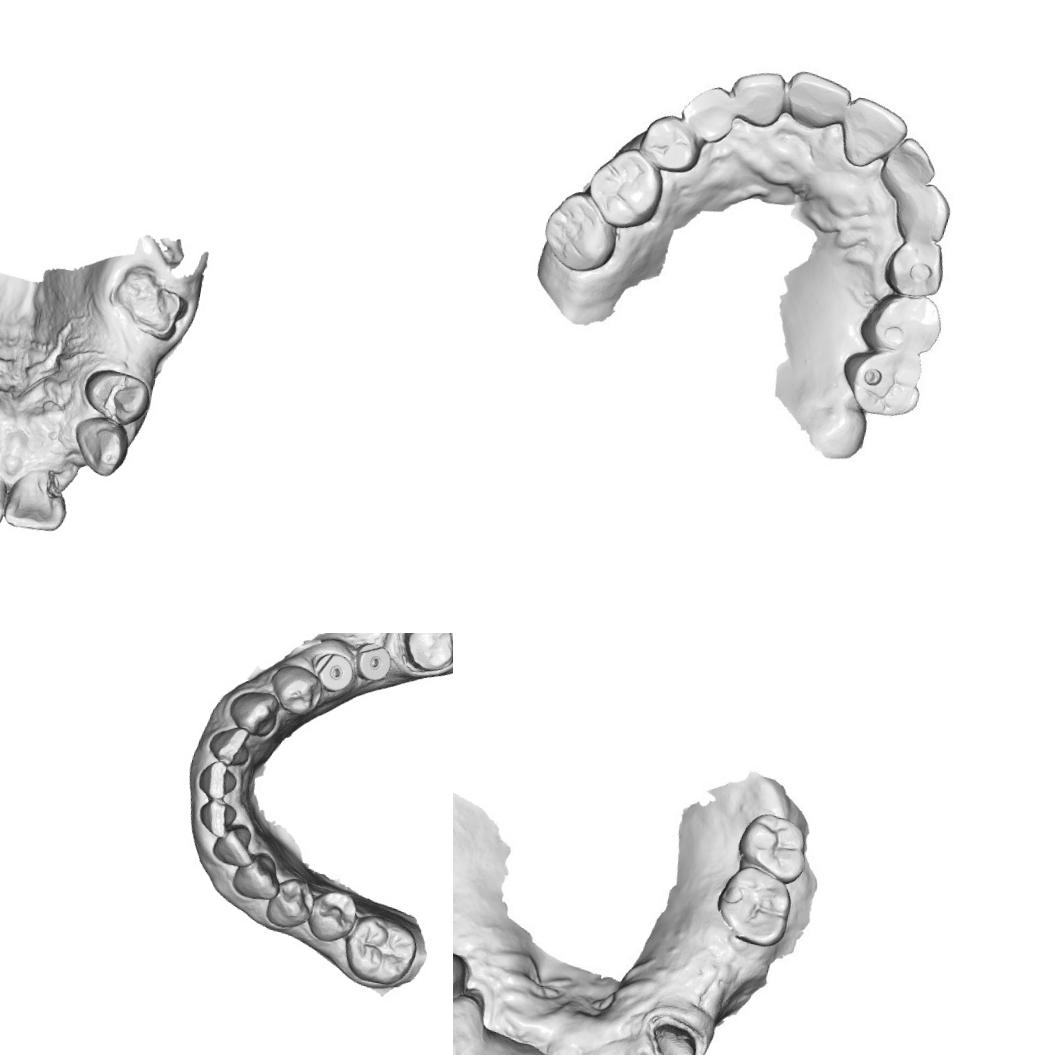canine: (890, 176, 955, 247), (676, 79, 742, 148), (67, 413, 132, 480), (228, 846, 286, 904), (224, 686, 282, 740), (453, 993, 483, 1055)
crown: (392, 633, 453, 680), (647, 1018, 704, 1055)
implant: (310, 648, 357, 695), (350, 638, 396, 686)
incisor: (834, 93, 912, 175), (0, 462, 72, 535), (779, 67, 856, 135), (876, 132, 941, 200), (725, 63, 788, 129), (210, 819, 260, 870), (204, 720, 256, 768), (194, 758, 241, 804), (195, 796, 238, 840), (453, 1039, 503, 1055)
molar: (534, 184, 624, 278), (580, 141, 669, 235), (708, 860, 797, 951), (854, 286, 948, 365), (837, 342, 928, 423), (338, 910, 423, 990), (732, 808, 813, 888)
premolar: (78, 364, 156, 431), (878, 235, 949, 306), (634, 109, 704, 176), (262, 872, 322, 934), (264, 660, 326, 719), (305, 886, 358, 948), (453, 942, 473, 1017)
